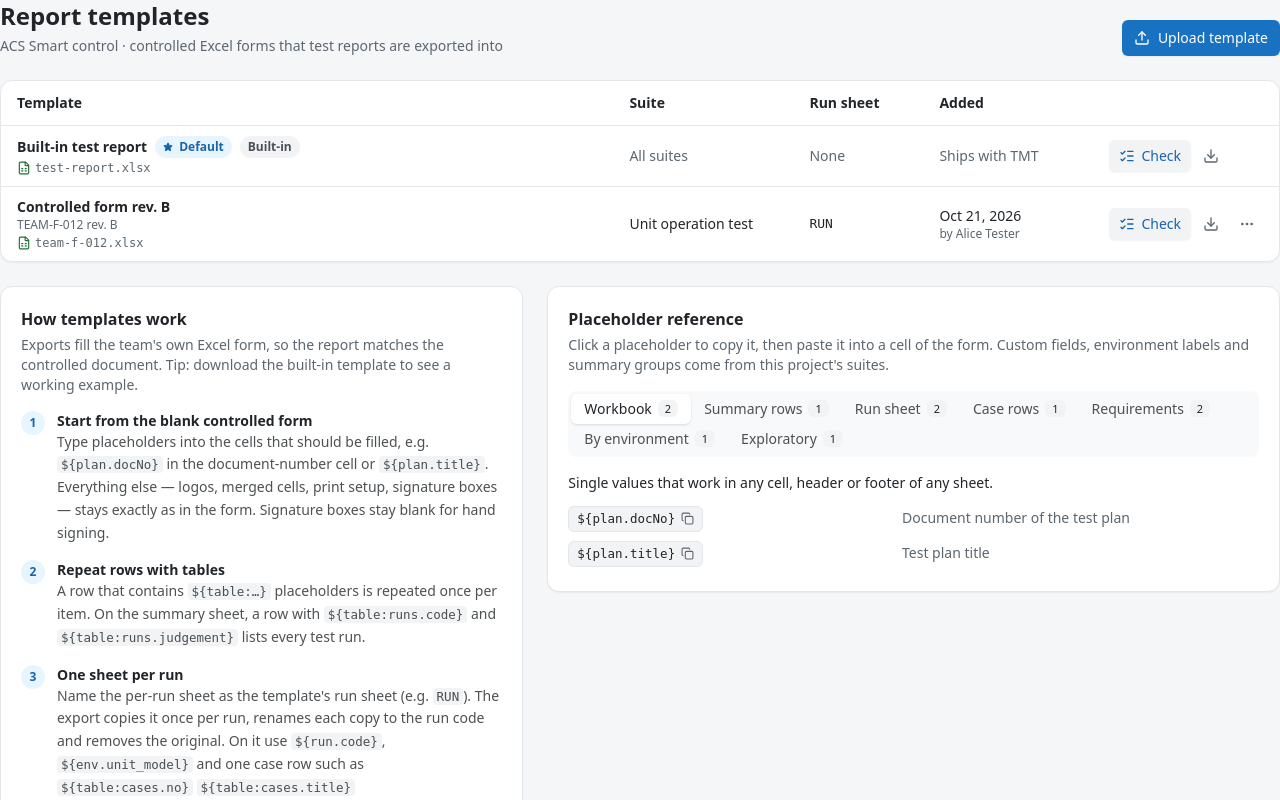
it: TemplatesPage › checks a template: missing run sheet and a misspelt placeholder
Click the button with aria-label "Check Controlled form rev. B" at (1150, 224), box [1109,208,1191,240]
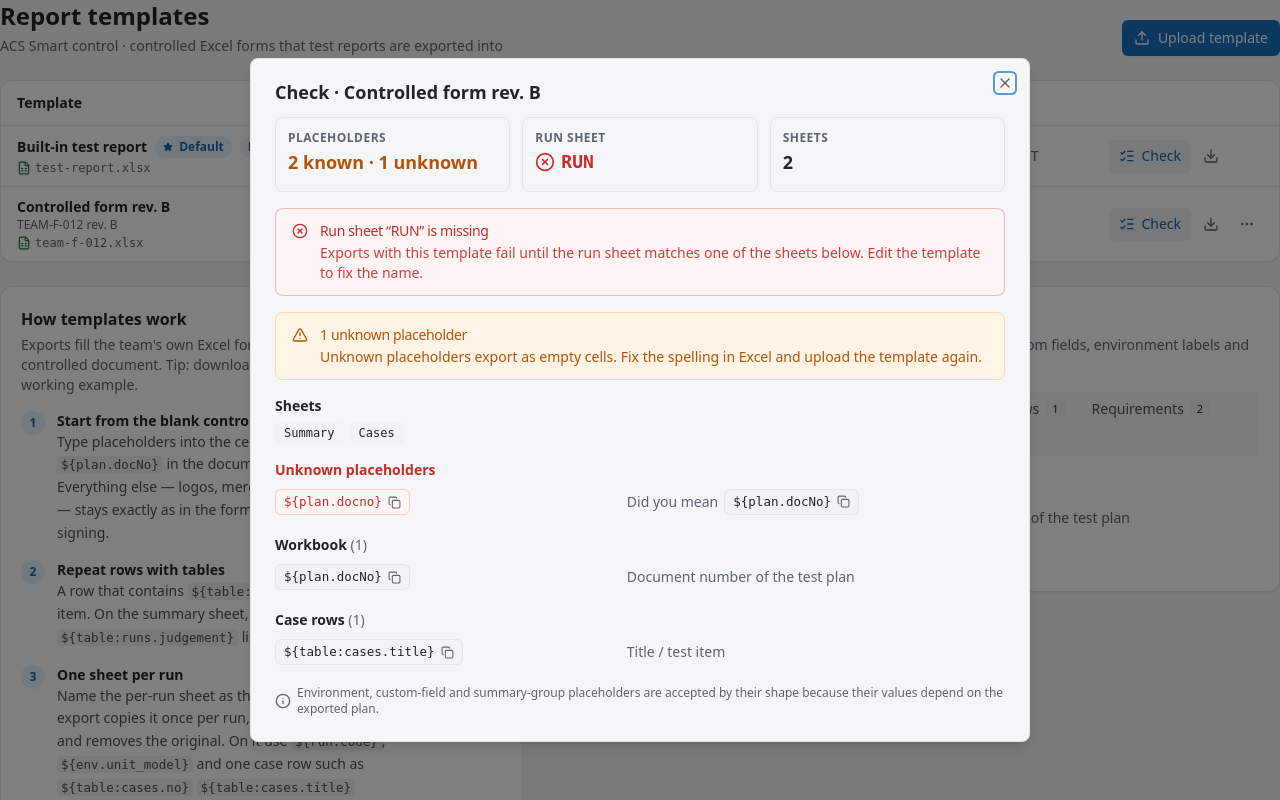
Expected: the text "Run sheet “RUN” is missing" is shown, [320,221,489,240]
Expected: the text "1 unknown placeholder" is shown, [320,325,467,344]
Expected: the text "2 known · 1 unknown" is shown, [288,148,497,176]
